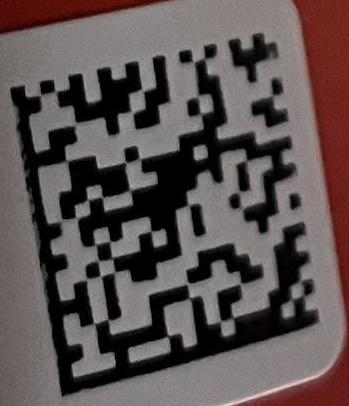datamatrix: (10, 34, 322, 397)
